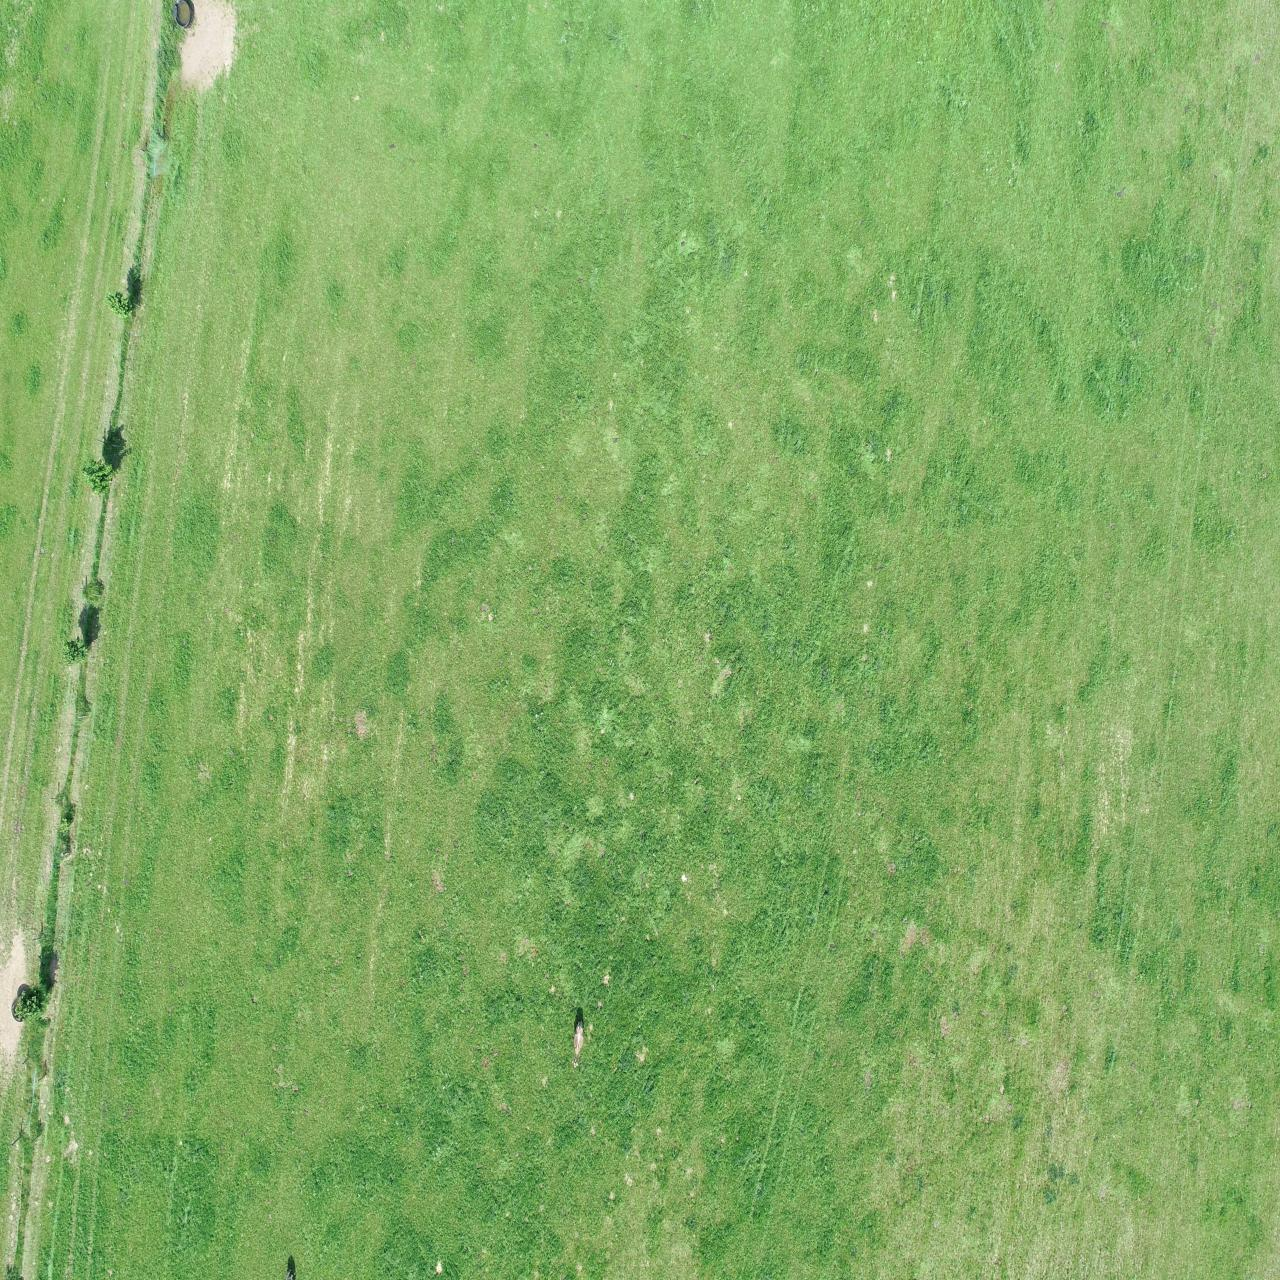cow: (570, 1019, 586, 1071)
